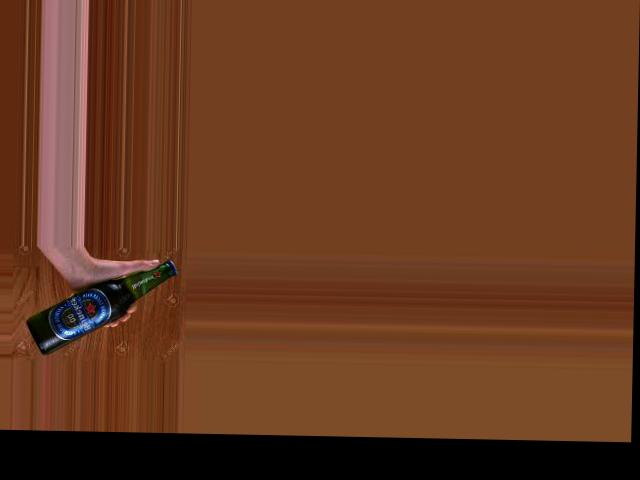beer: (25, 257, 178, 356)
